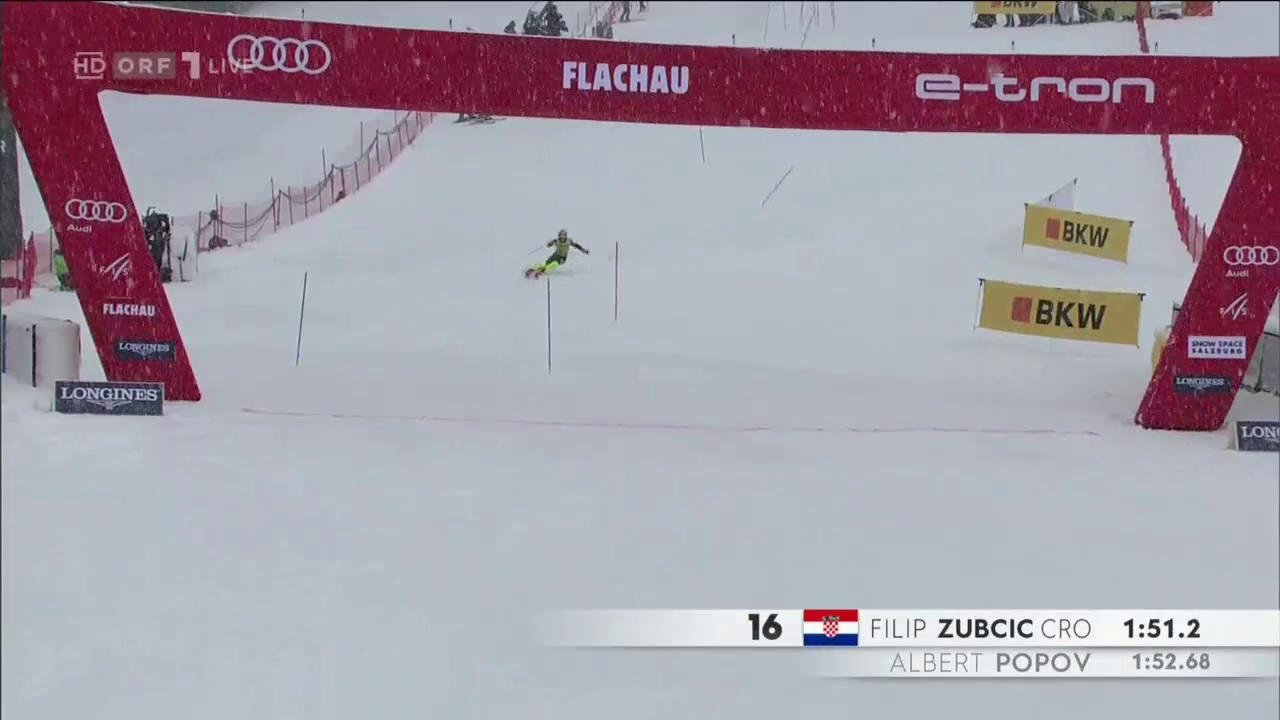audi: (224, 35, 336, 80), (65, 199, 132, 229), (1224, 243, 1278, 277)
etron: (923, 76, 1148, 112)
flachau: (566, 56, 691, 106)
longines: (53, 384, 164, 418), (1239, 422, 1279, 458)
